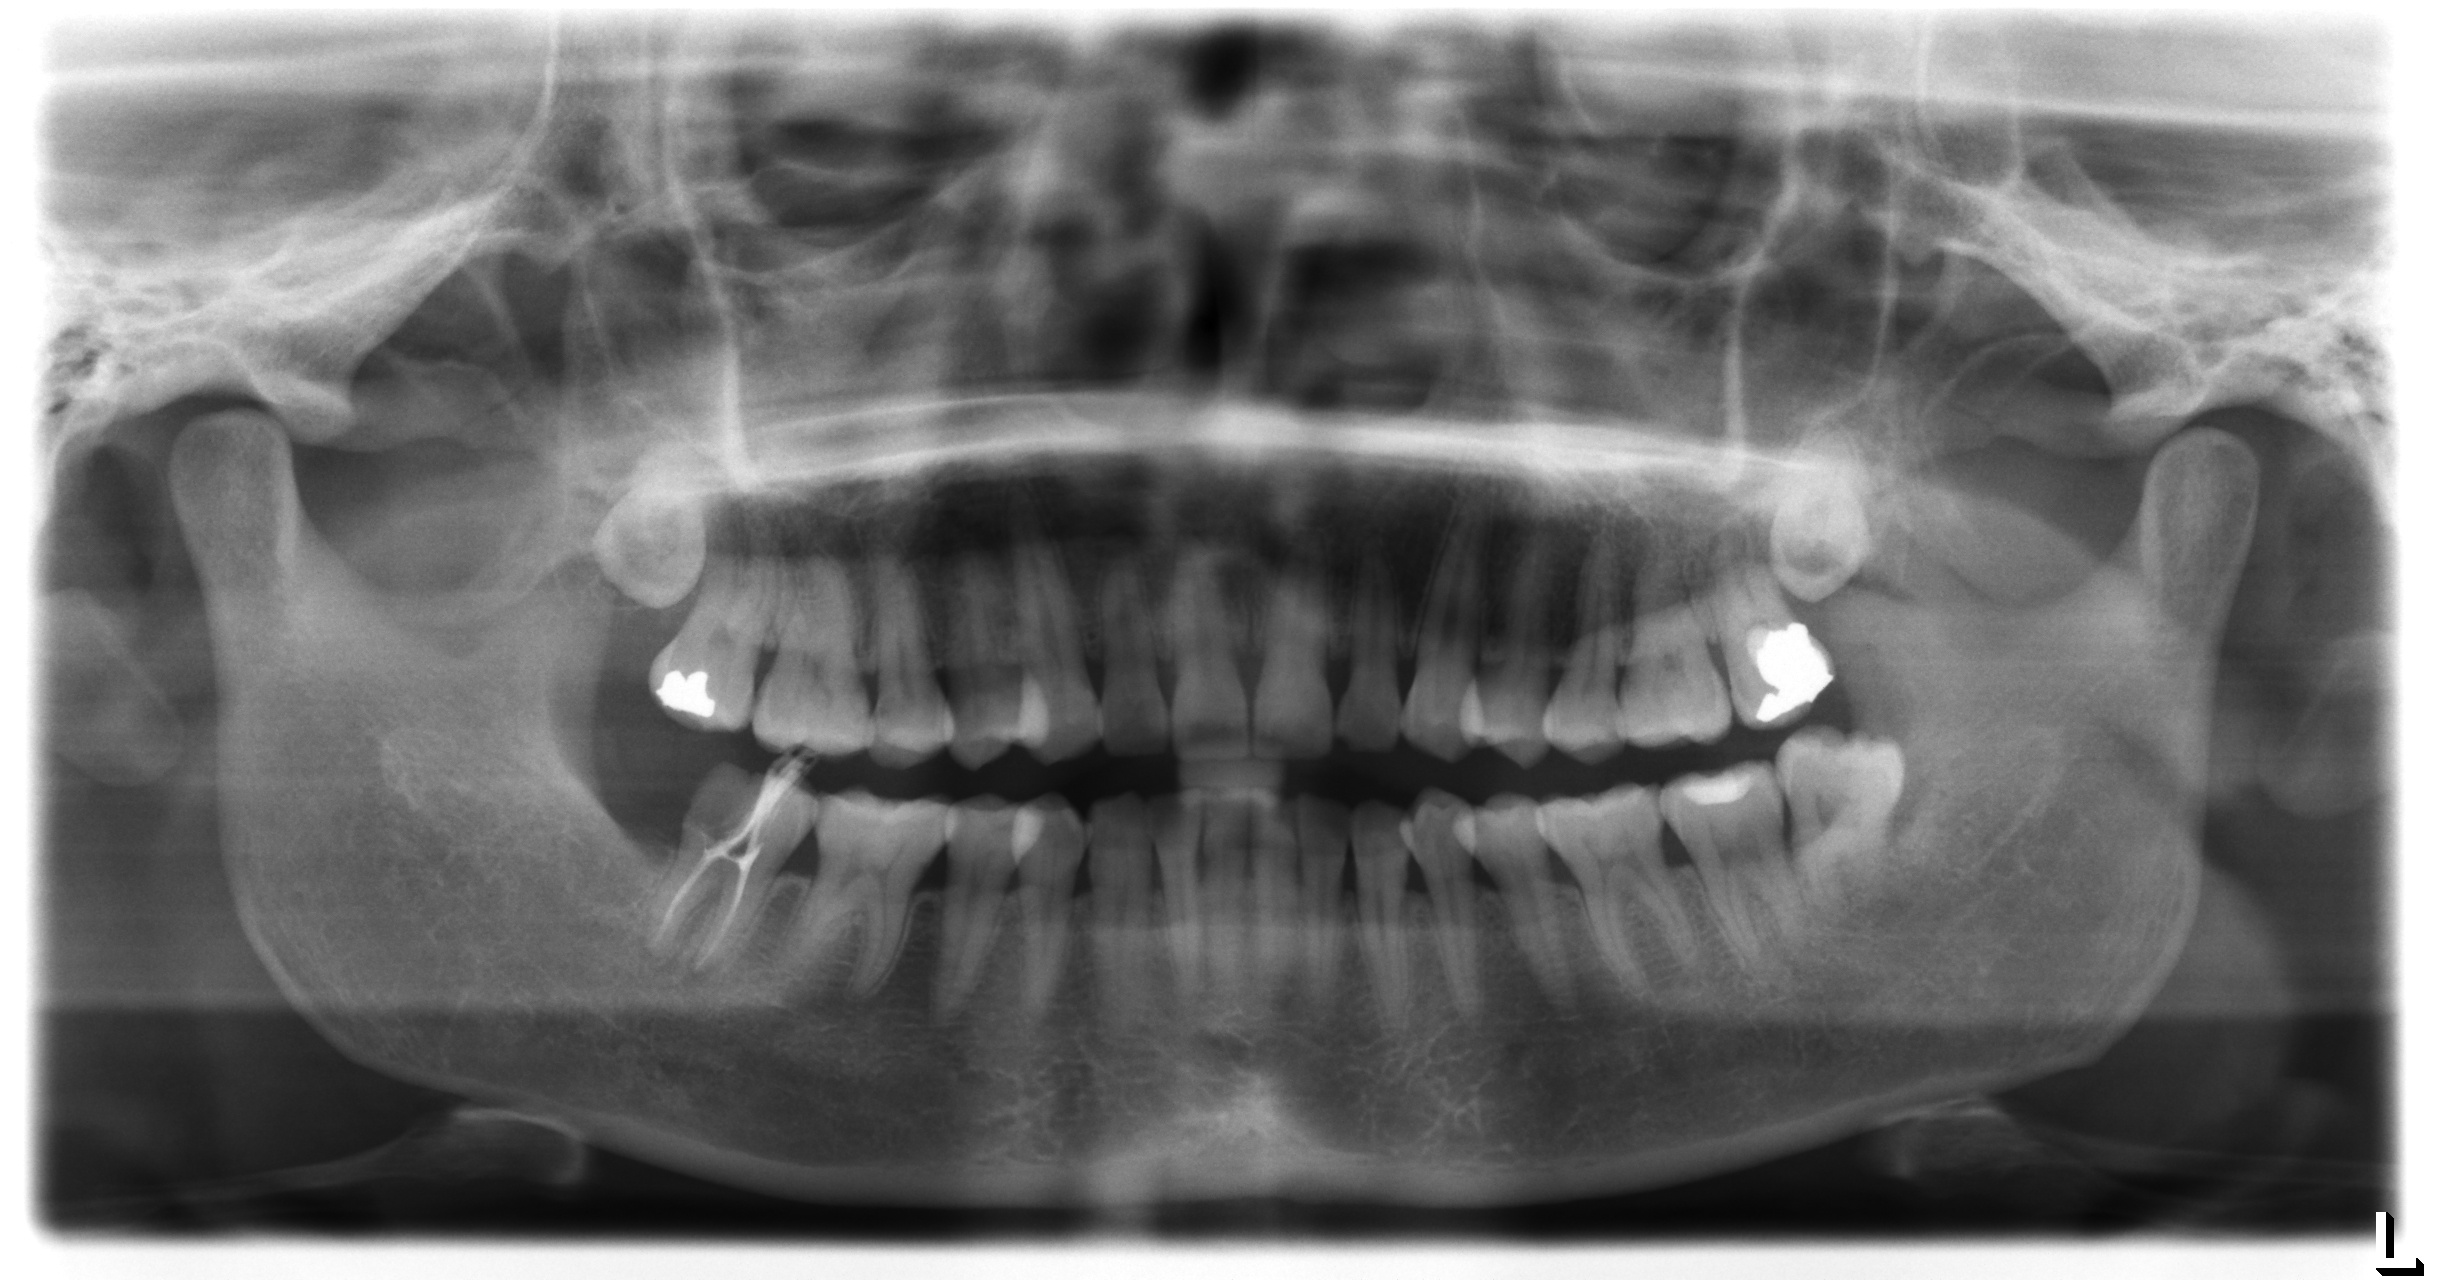Decay: (675, 755, 765, 852)
